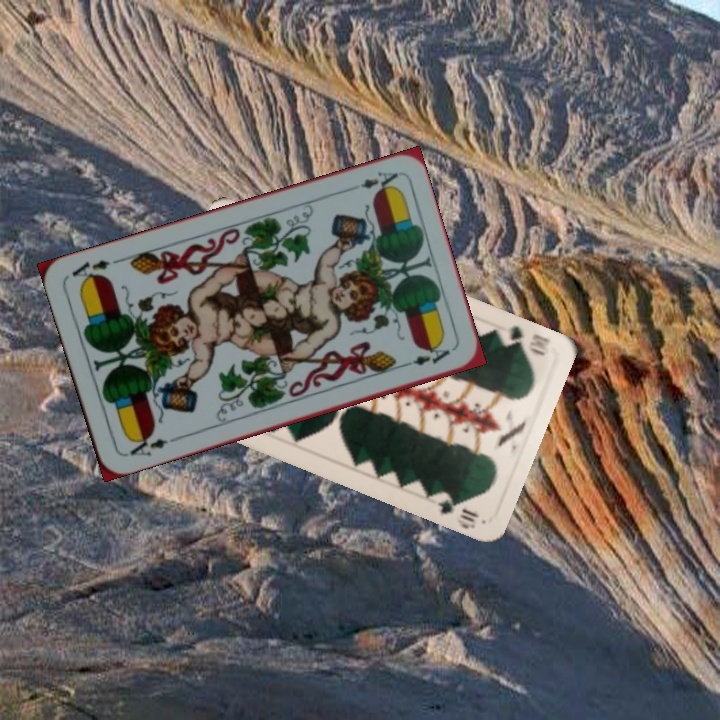EA: (121, 430, 171, 459), (356, 167, 401, 195)
G10: (494, 321, 553, 359)
